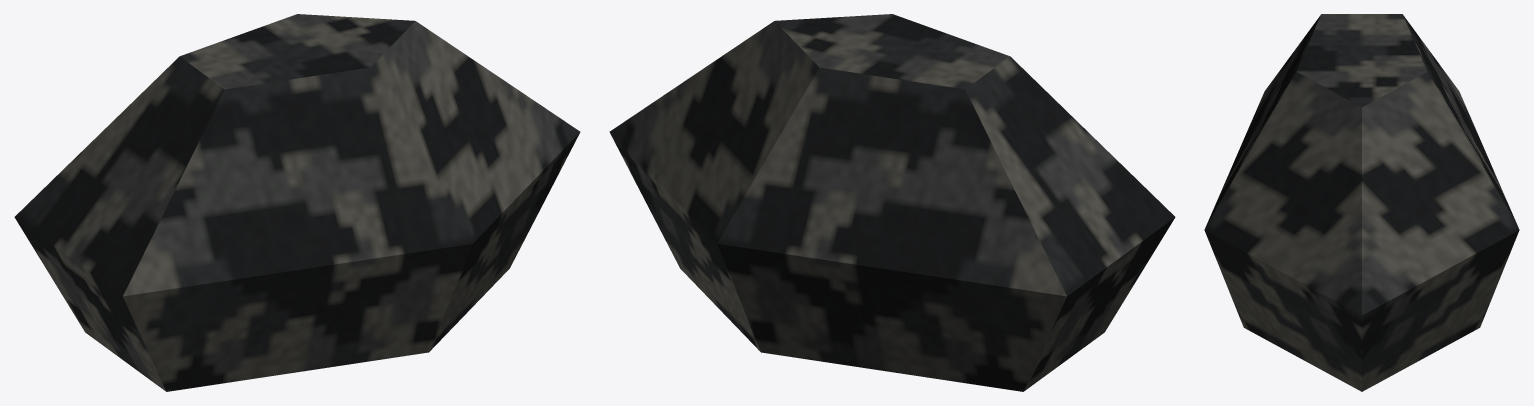
Rendered from ENV_F_Rock_2.fbx.
3 renders of one model, left to right at view 1: azimuth 30°, elevation 25°; view 2: azimuth 150°, elevation 25°; view 3: azimuth 270°, elevation 25°, orthographic. The views are drawn at different scales.
Visible parts, largest first — view 1: PL_ENV_F_Rock_2; view 2: PL_ENV_F_Rock_2; view 3: PL_ENV_F_Rock_2.
Boxes of the visible parts, <box> form: PL_ENV_F_Rock_2: <box>14,14,580,391</box>; PL_ENV_F_Rock_2: <box>609,14,1175,391</box>; PL_ENV_F_Rock_2: <box>1204,14,1519,391</box>.
Size of the model in its own units: 269 by 136 by 160.
Materials: 1 (1 with a texture image).
